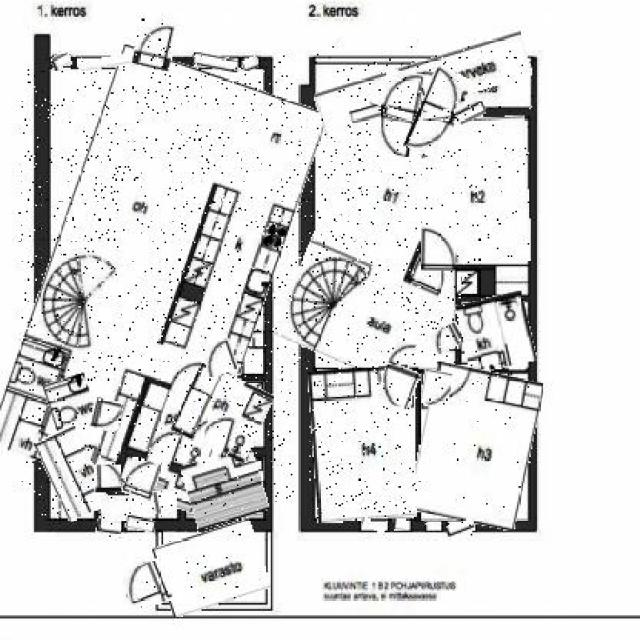door: (410, 70, 464, 158), (377, 71, 420, 155), (134, 20, 177, 75), (123, 562, 169, 609), (378, 366, 418, 409), (420, 228, 455, 270), (123, 458, 159, 498), (201, 337, 234, 377), (204, 414, 236, 454), (422, 370, 452, 408), (90, 398, 122, 431), (428, 325, 464, 352), (94, 466, 120, 494)
window: (192, 55, 238, 71), (454, 102, 486, 123), (78, 57, 132, 69), (446, 521, 476, 537), (351, 106, 380, 122), (126, 517, 156, 532), (97, 520, 120, 537), (422, 109, 451, 120), (383, 109, 412, 120), (360, 520, 386, 532), (52, 55, 71, 71), (243, 57, 259, 71), (425, 523, 443, 531), (392, 522, 408, 530)
zone: (18, 56, 296, 502), (294, 111, 475, 377), (412, 366, 537, 526), (314, 46, 532, 122), (310, 369, 416, 523), (422, 117, 529, 263), (157, 523, 268, 611), (177, 371, 268, 457), (185, 449, 266, 525), (460, 294, 534, 371), (42, 428, 102, 520), (48, 375, 97, 431), (98, 494, 177, 521)
